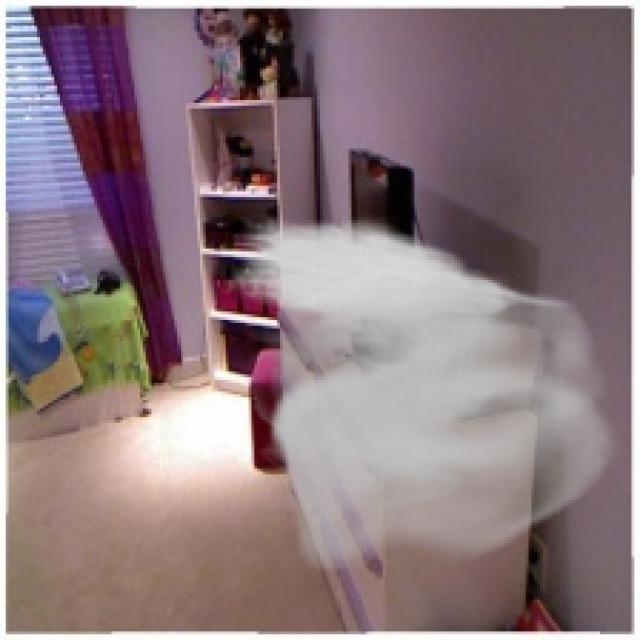smoke: (223, 214, 626, 572)
